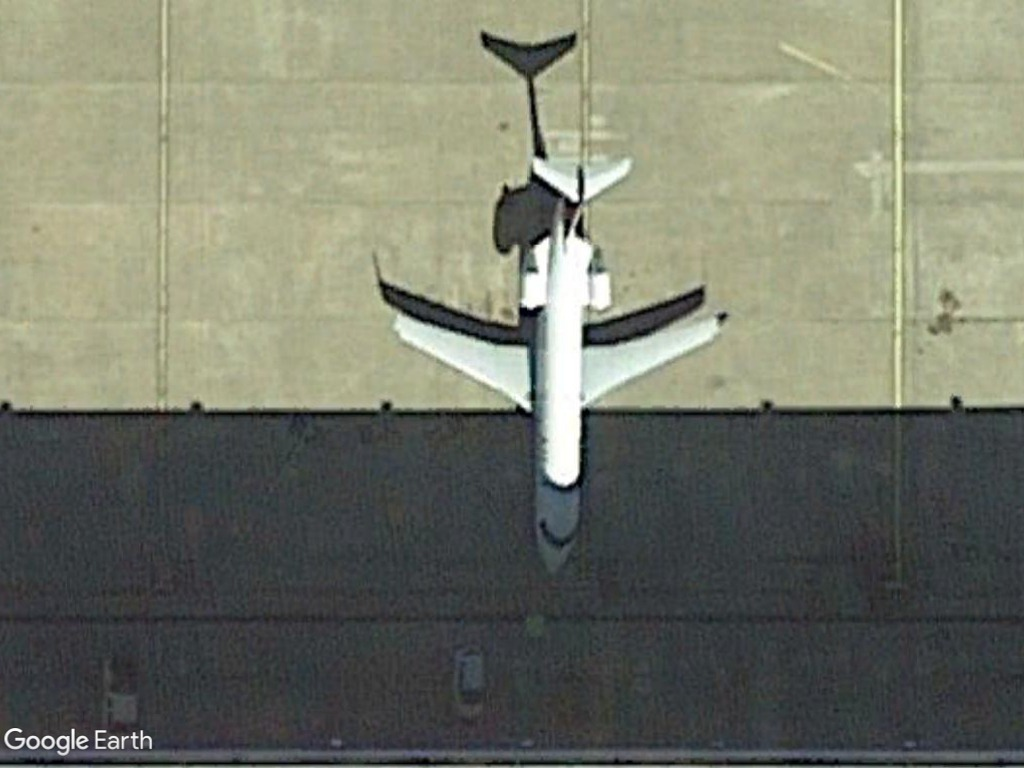chartered: (384, 150, 734, 582)
